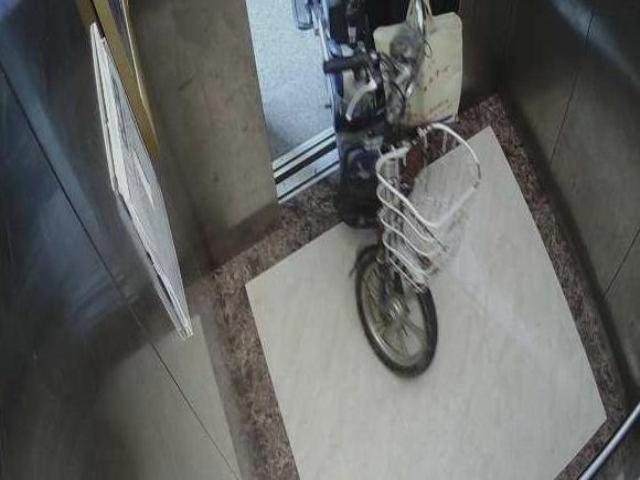emotor: (310, 9, 467, 371)
